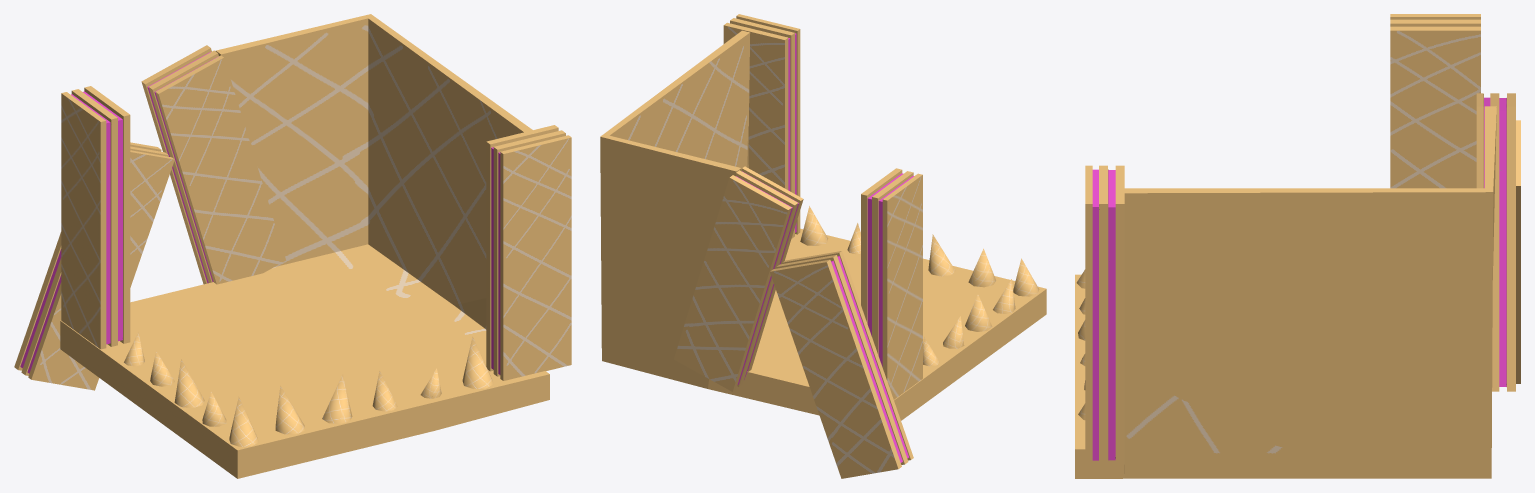
The model's file is Stage Mockup.fbx.
3 views of the same model, side by side, from view 1: azimuth 30°, elevation 25°; view 2: azimuth 150°, elevation 25°; view 3: azimuth 270°, elevation 25° (orthographic). The views are drawn at different scales.
Visible parts, largest first — view 1: Walls, Wafer, Cone; view 2: Wafer, Walls, Cone; view 3: Walls, Wafer.
Part boxes in pixels (bbox=[...]): Walls: bbox=[60, 14, 549, 478]; Wafer: bbox=[14, 45, 571, 390]; Cone: bbox=[124, 332, 493, 446]; Wafer: bbox=[674, 14, 922, 478]; Walls: bbox=[600, 30, 1046, 420]; Cone: bbox=[800, 206, 1039, 366]; Walls: bbox=[1075, 106, 1496, 478]; Wafer: bbox=[1085, 14, 1520, 464].
Size of the model in its own units: 238 by 189 by 218.
Materials: 3 (3 with a texture image).
